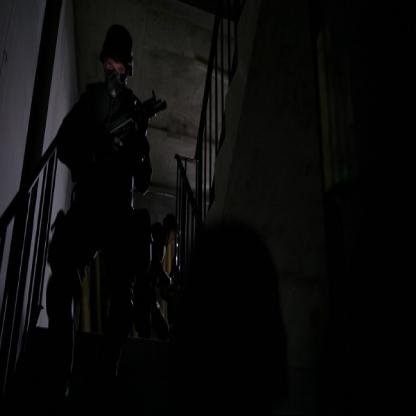Guns: (74, 88, 166, 168)
